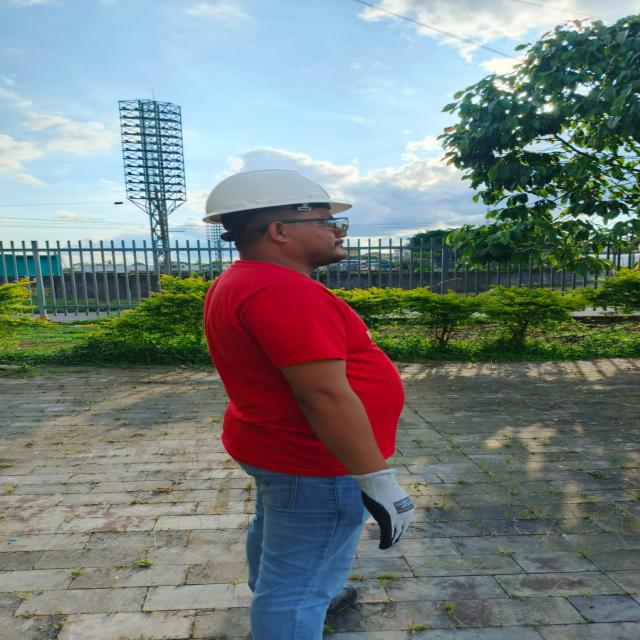gloves: (352, 469, 414, 550)
helmet: (203, 169, 352, 223)
protective_glasses: (280, 216, 349, 235), (260, 225, 268, 233)
